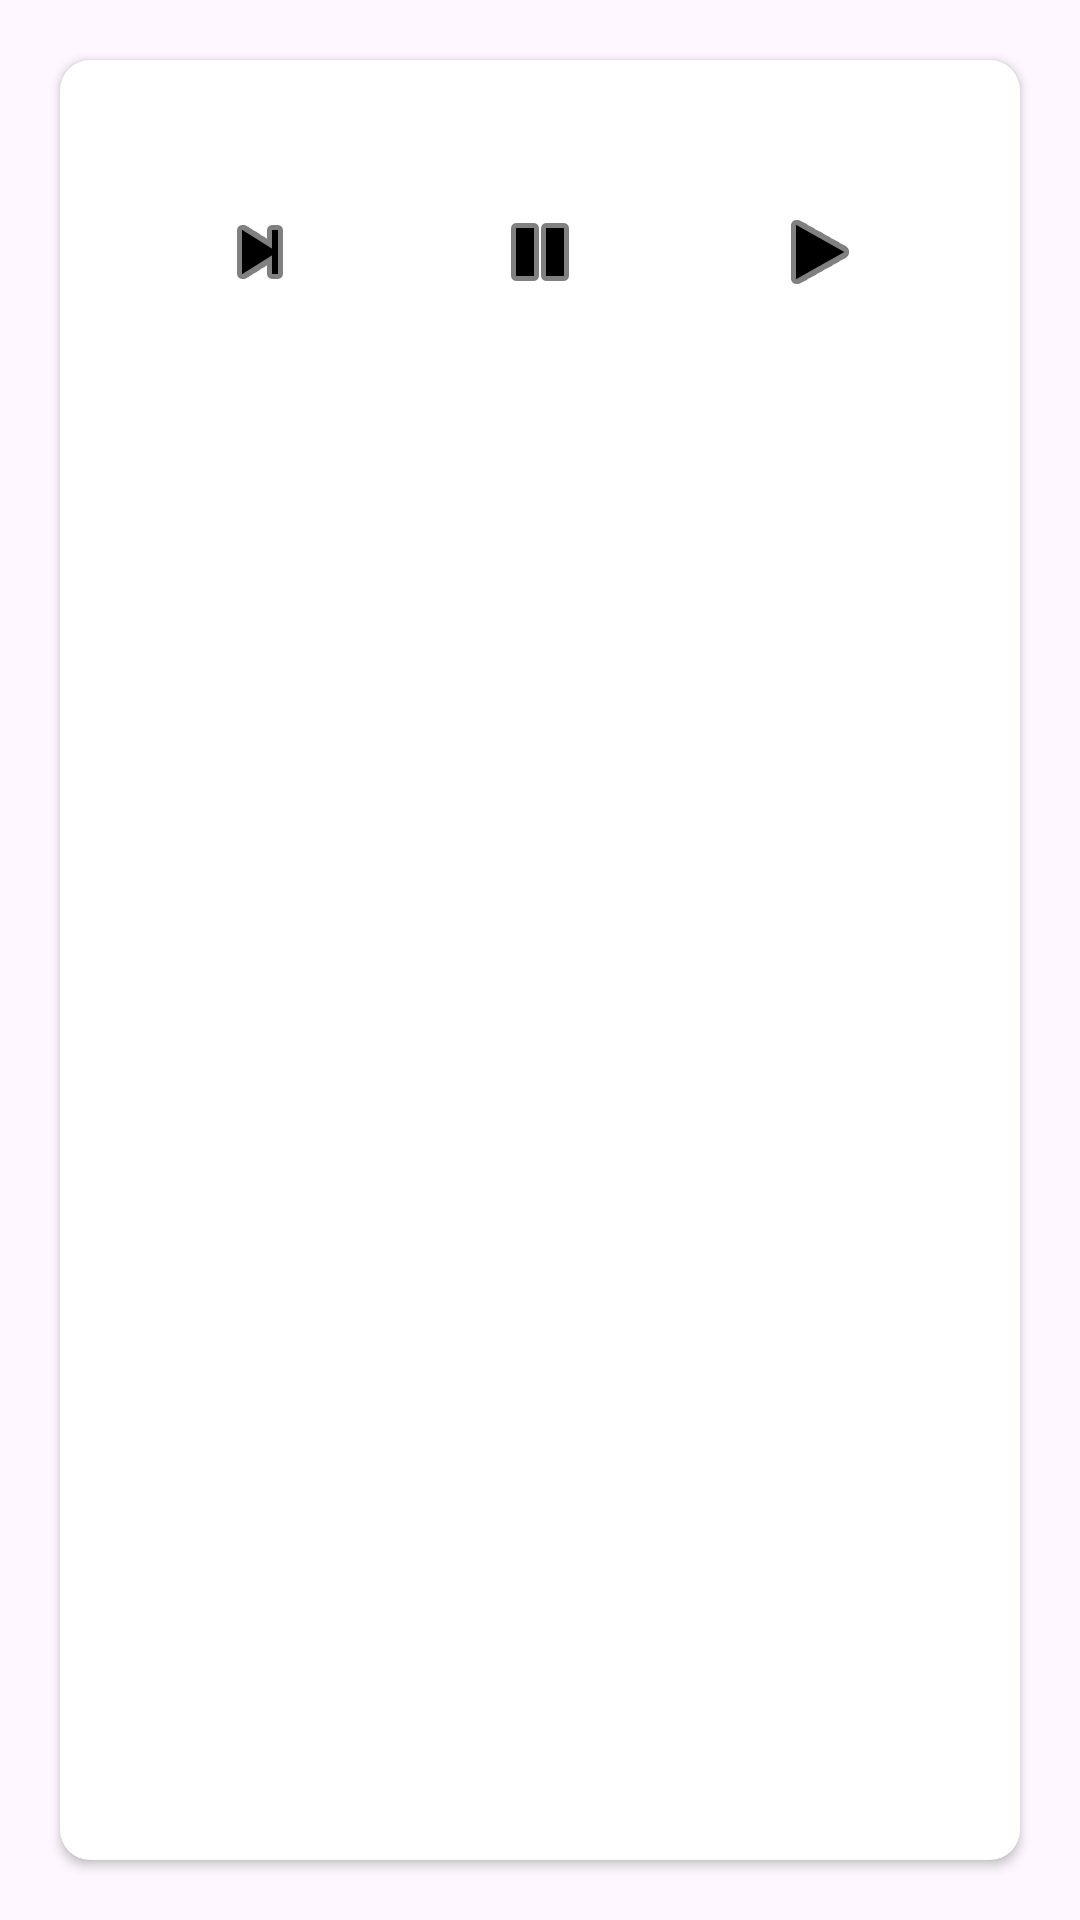

Named icons in this screenshot (1080*1920) and their centers, [x,y]:
PLAY NEXT MUSIC: [260,252]
TO PAUSE MUSIC: [540,252]
To play music: [820,252]
